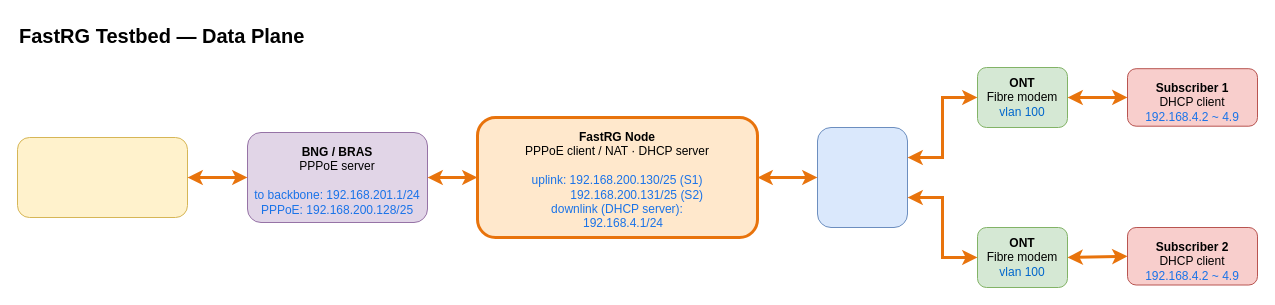
This 1275x305 diagram has some shape labels left out. The shapes that lost their labels are listed below. From the top down, each one's centre as x and y in pixels, then its label:
At pixel 102 177: "Backbone / Core Network Internet uplink 192.168.201.11/24".
At pixel 862 177: "OLT GPON aggregation".
